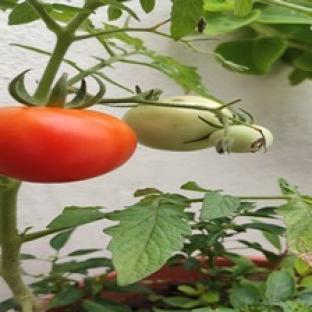Tomato: (0, 108, 136, 182), (123, 105, 221, 150), (209, 126, 272, 153)
